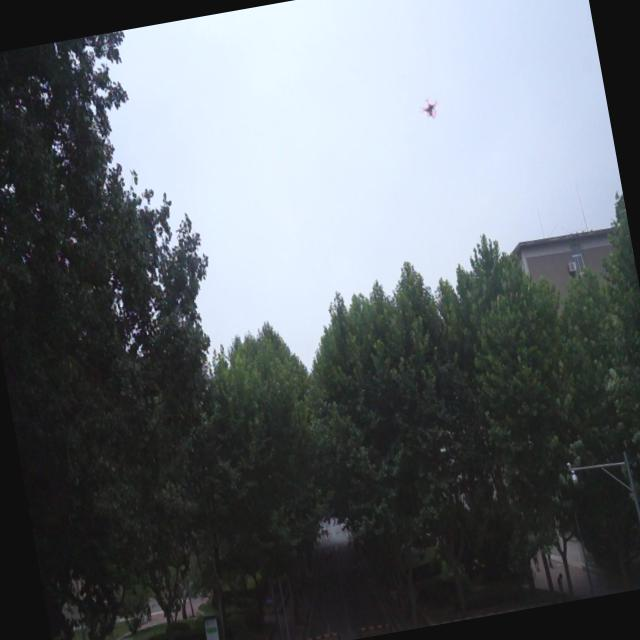drone: (417, 95, 443, 123)
